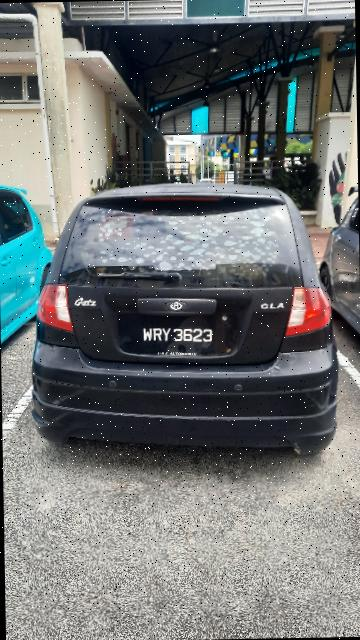License_Plate: (120, 315, 236, 366)
car: (21, 177, 350, 466)
